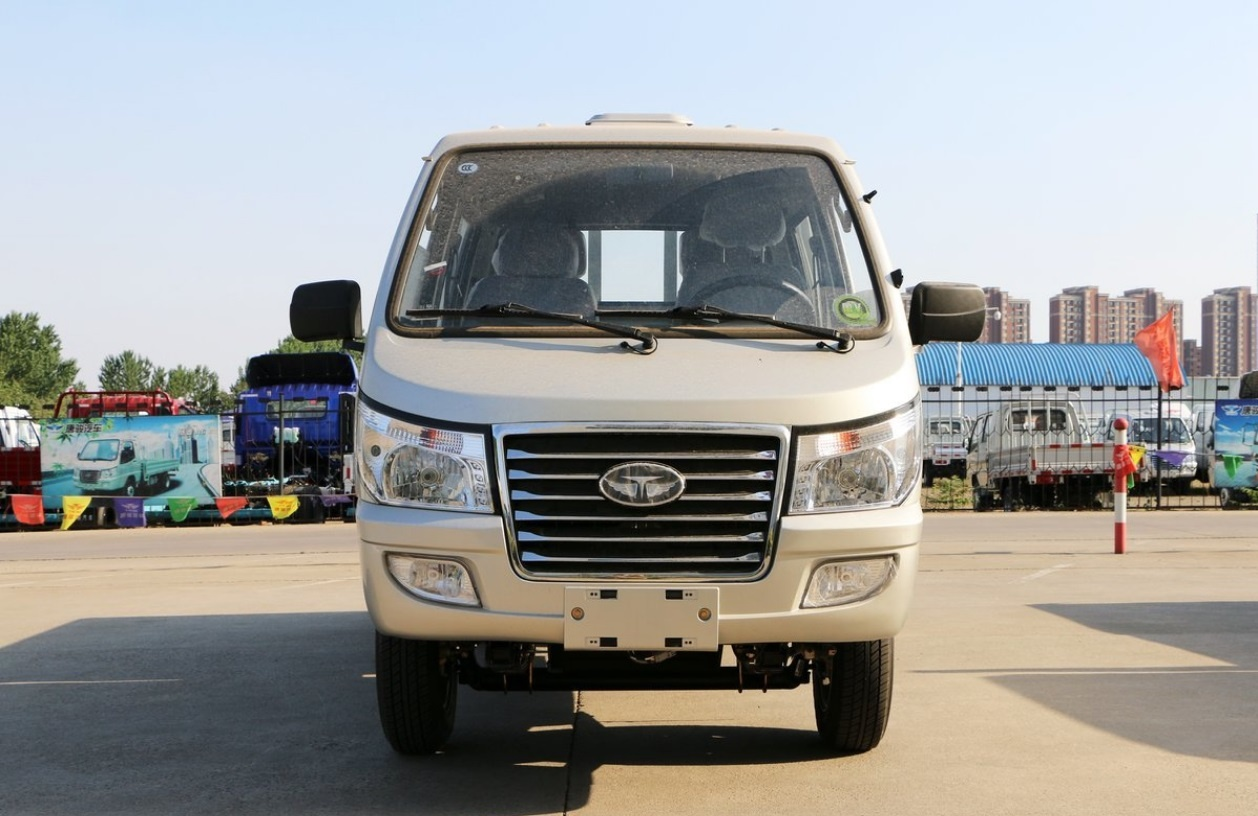truck: (298, 99, 921, 778)
